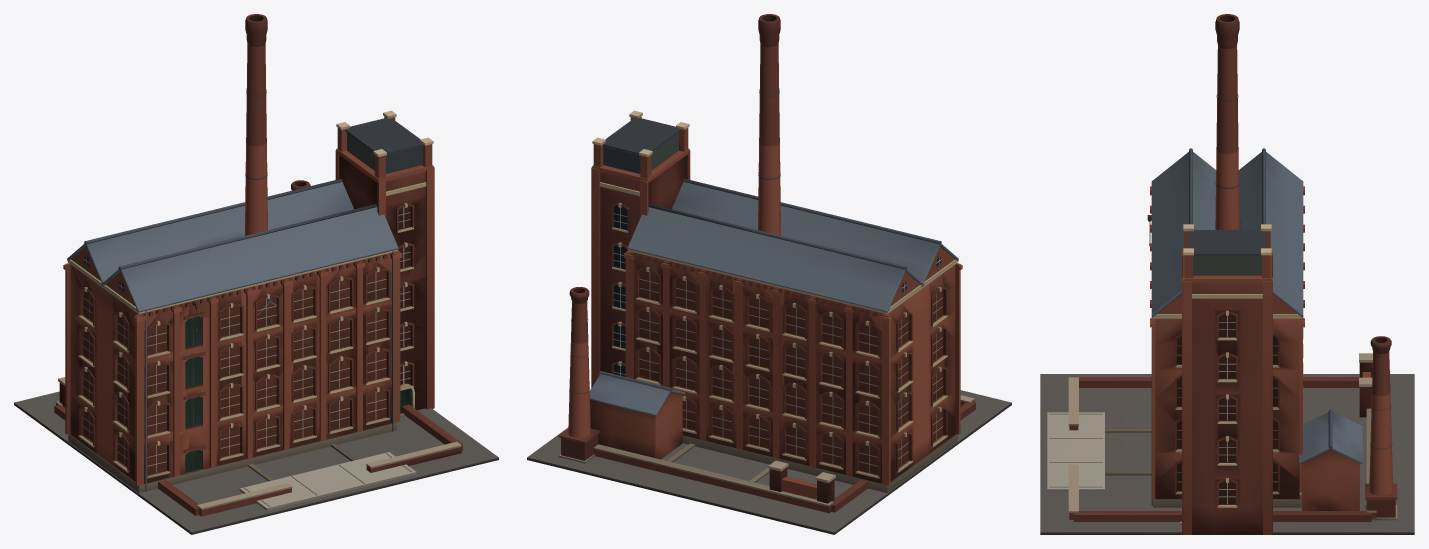
Rendered from mills.glb.
3 renders of one model, left to right at view 1: azimuth 30°, elevation 25°; view 2: azimuth 150°, elevation 25°; view 3: azimuth 270°, elevation 25°, orthographic. The views are drawn at different scales.
Visible parts, largest first — view 1: mill_big-mesh, mill_site-mesh, chimney-mesh; view 2: mill_big-mesh, mill_site-mesh, chimney-mesh; view 3: mill_big-mesh, mill_site-mesh, chimney-mesh.
Boxes of the visible parts, x1,y1,x2,y2 form: mill_big-mesh: (63,110,434,492); mill_site-mesh: (14,180,498,534); chimney-mesh: (245,14,267,235); mill_big-mesh: (591,110,962,492); mill_site-mesh: (527,287,1011,534); chimney-mesh: (758,14,780,235); mill_big-mesh: (1147,148,1304,534); mill_site-mesh: (1040,336,1414,534); chimney-mesh: (1215,14,1239,229).
Size of the model in its own units: 0.796 by 1 by 0.78.
